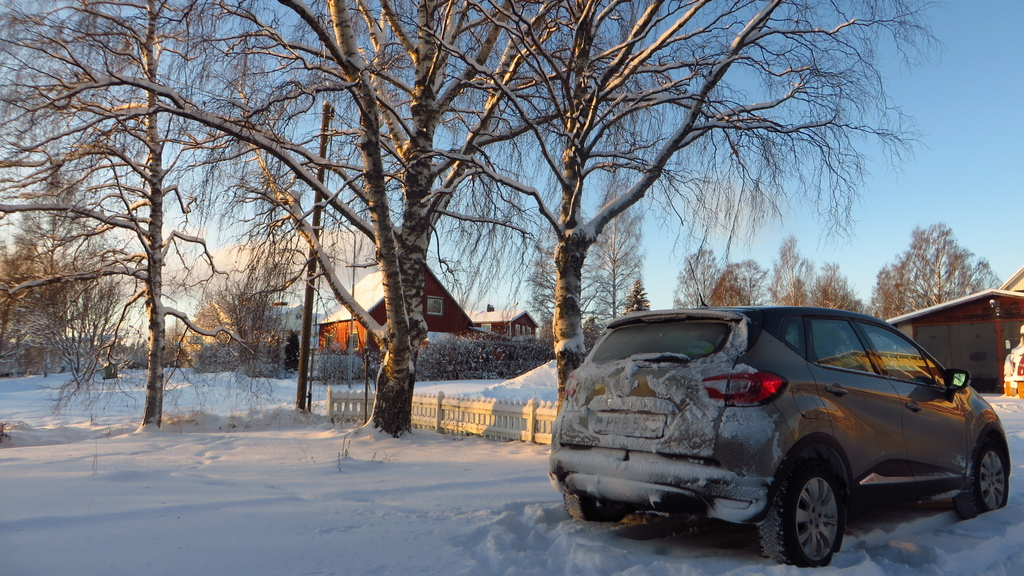Car: (553, 295, 995, 557)
